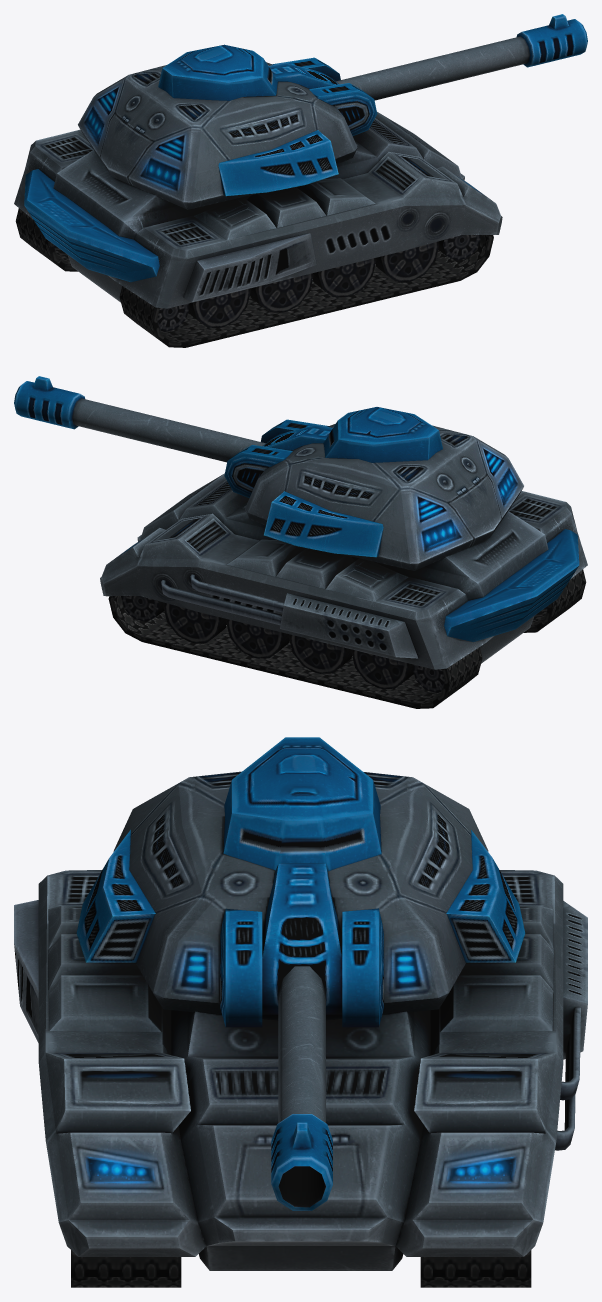
The model's file is tank.FBX.
The picture shows the model from 3 angles, top to bottom: view 1: azimuth 30°, elevation 25°; view 2: azimuth 150°, elevation 25°; view 3: azimuth 270°, elevation 25°; orthographic projection. The views are drawn at different scales.
Parts seen in each view (by area): view 1: tank_body, tank_head, wheel_r_1, wheel_r_3, wheel_r_2, wheel_r_4, small_wheel_r_f, small_wheel_r_b; view 2: tank_body, tank_head, wheel_l_1, wheel_l_3, wheel_l_2, wheel_l_4, small_wheel_l_f, small_wheel_l_b; view 3: tank_body, tank_head.
Part boxes in pixels (x1,y1,x2,y2): tank_body: (14,112,502,347); tank_head: (78,14,587,209); wheel_r_1: (375,241,439,281); wheel_r_3: (250,273,313,312); wheel_r_2: (313,258,376,297); wheel_r_4: (188,288,250,327); small_wheel_r_f: (438,235,481,260); small_wheel_r_b: (157,303,189,331); tank_body: (100,473,587,708); tank_head: (14,376,523,570); wheel_l_1: (163,602,226,643); wheel_l_3: (288,634,351,673); wheel_l_2: (226,619,289,658); wheel_l_4: (351,649,413,688); small_wheel_l_f: (121,596,164,621); small_wheel_l_b: (412,664,444,692); tank_body: (14,870,587,1287); tank_head: (76,737,525,1210).
Size of the model in its own units: 367 by 145 by 202.
1 material, 1 textured.
